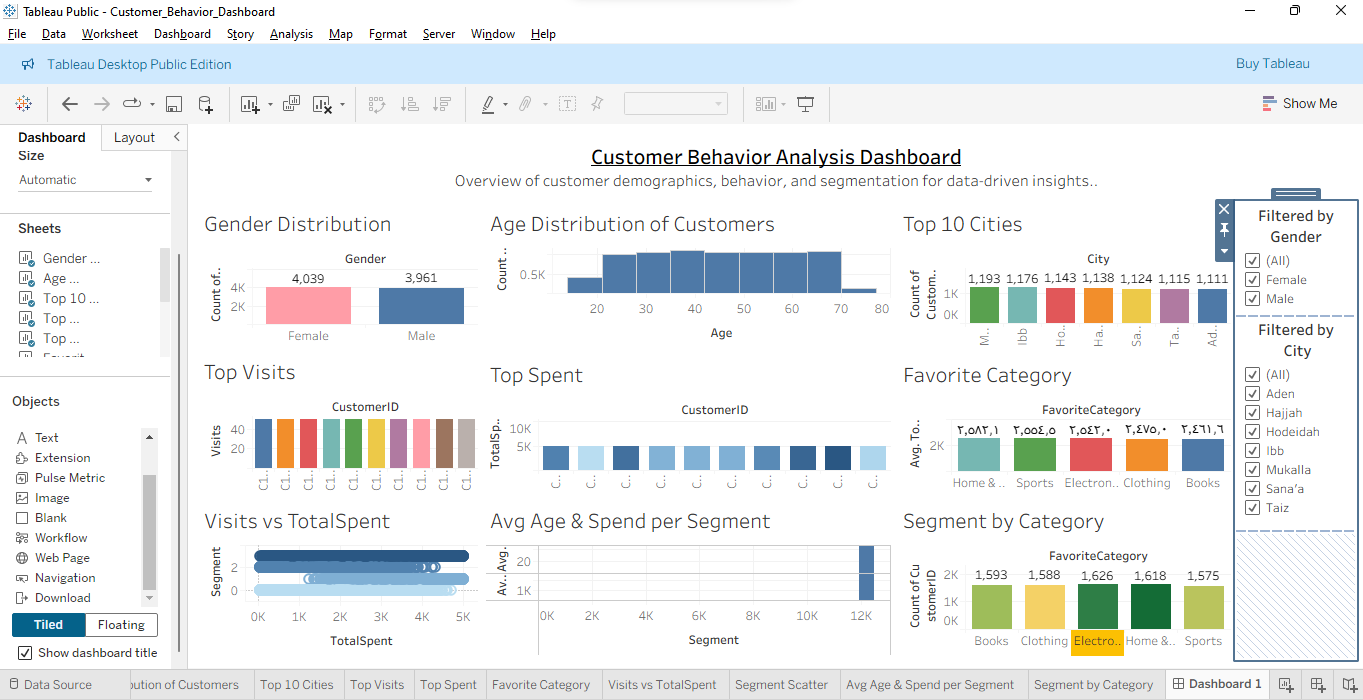

The page's visual inventory and layout, read from the dashboard file:
{"tool":"tableau","page":{"name":"Dashboard 1","canvas":[1200,800],"ordinal":0},"visuals":[{"type":"title","box":[8,8,1184,113]},{"type":"worksheet","title":"Gender Distribution","mark":"Automatic","rows":["CustomerID"],"cols":["Gender"],"box":[8,121,302.2,216.9]},{"type":"worksheet","title":"Age Distribution of Customers","mark":"Automatic","rows":["CustomerID"],"cols":["Age (bin)"],"box":[310.2,121,363.3,220.8]},{"type":"worksheet","title":"Top 10 Cities","mark":"Bar","rows":["CustomerID"],"cols":["City"],"box":[673.5,121,396.5,221]},{"type":"filter","title":"Gender Distribution","param":"[federated.05tbh240f9s4rs14a1lq20laqdfw].[none:Gender:nk]","box":[1070,121,122,114]},{"type":"filter","title":"Top 10 Cities","param":"[federated.05tbh240f9s4rs14a1lq20laqdfw].[none:City:nk]","box":[1070,235,122,215]},{"type":"worksheet","title":"Top Visits","mark":"Bar","rows":["Visits"],"cols":["CustomerID"],"box":[8,337.9,302.2,216.9]},{"type":"worksheet","title":"Top Spent","mark":"Bar","rows":["TotalSpent"],"cols":["CustomerID"],"box":[310.2,341.8,363.3,213.1]},{"type":"worksheet","title":"Favorite Category","mark":"Automatic","rows":["TotalSpent"],"cols":["FavoriteCategory"],"box":[673.5,342,396.5,213]},{"type":"worksheet","title":"Visits vs TotalSpent","mark":"Automatic","rows":["Segment"],"cols":["TotalSpent"],"box":[8,554.9,302.2,237.1]},{"type":"worksheet","title":"Avg Age & Spend per Segment","mark":"Bar","rows":["Age","TotalSpent"],"cols":["Segment"],"box":[310.2,554.9,363.3,237.1]},{"type":"worksheet","title":"Segment by Category","mark":"Automatic","rows":["CustomerID"],"cols":["FavoriteCategory"],"box":[673.5,555,396.5,237]}]}

Visuals, with their boxes on the page's 1200x800 design canvas (x1, y1, x2, y2). These are canvas units, not pixel positions in the 1363x700 screenshot, which may show the page scaled, cropped or inside an application window:
title: region(8, 8, 1192, 121)
"Gender Distribution" worksheet: region(8, 121, 310, 338)
"Age Distribution of Customers" worksheet: region(310, 121, 674, 342)
"Top 10 Cities" worksheet (Bar marks): region(674, 121, 1070, 342)
"Gender Distribution" filter: region(1070, 121, 1192, 235)
"Top 10 Cities" filter: region(1070, 235, 1192, 450)
"Top Visits" worksheet (Bar marks): region(8, 338, 310, 555)
"Top Spent" worksheet (Bar marks): region(310, 342, 674, 555)
"Favorite Category" worksheet: region(674, 342, 1070, 555)
"Visits vs TotalSpent" worksheet: region(8, 555, 310, 792)
"Avg Age & Spend per Segment" worksheet (Bar marks): region(310, 555, 674, 792)
"Segment by Category" worksheet: region(674, 555, 1070, 792)
